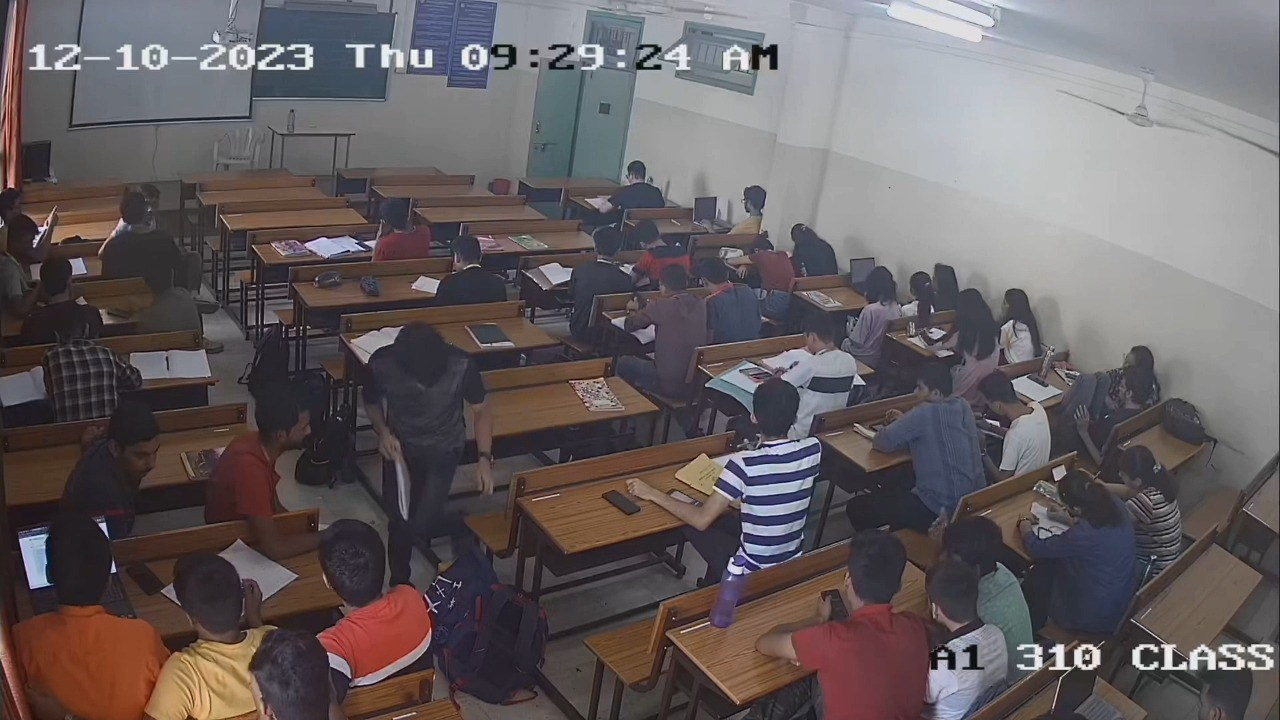cell-phones: (122, 558, 167, 594), (818, 586, 851, 629), (598, 486, 643, 517), (104, 301, 138, 324), (1026, 372, 1051, 390), (629, 290, 648, 312), (1049, 463, 1070, 482)
person: (8, 506, 171, 720), (747, 531, 928, 720), (689, 376, 824, 573), (1010, 473, 1139, 622), (611, 265, 707, 390), (128, 247, 207, 345), (1063, 374, 1149, 443)
